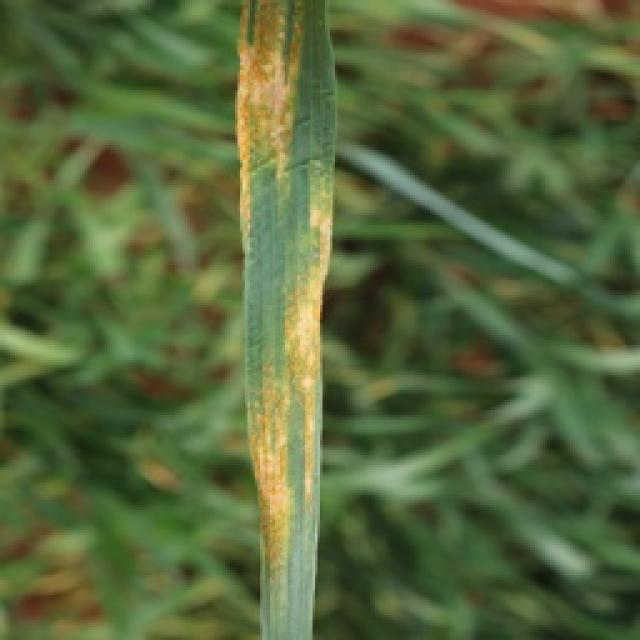Healthy Wheat: (0, 0, 638, 638)
Yellow Rust: (232, 0, 338, 638)
